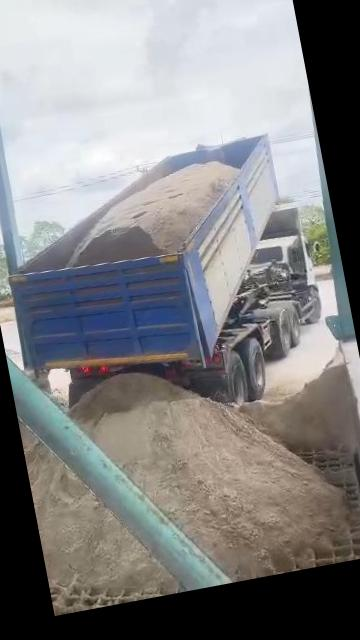sand: (72, 374, 347, 580), (25, 444, 174, 592), (66, 161, 238, 266), (241, 356, 356, 451), (50, 579, 168, 615), (18, 420, 35, 448)
